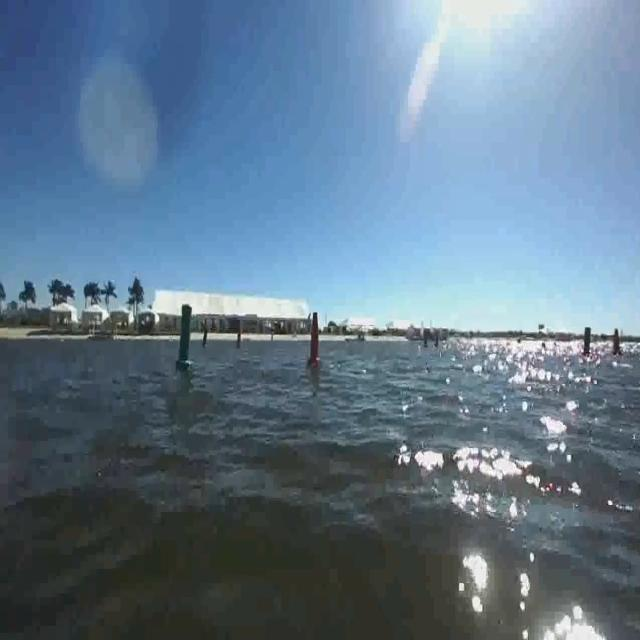green-column-buoy: (176, 302, 194, 369), (580, 327, 593, 359), (202, 328, 210, 350)
red-column-buoy: (307, 312, 323, 370), (612, 328, 625, 358)
